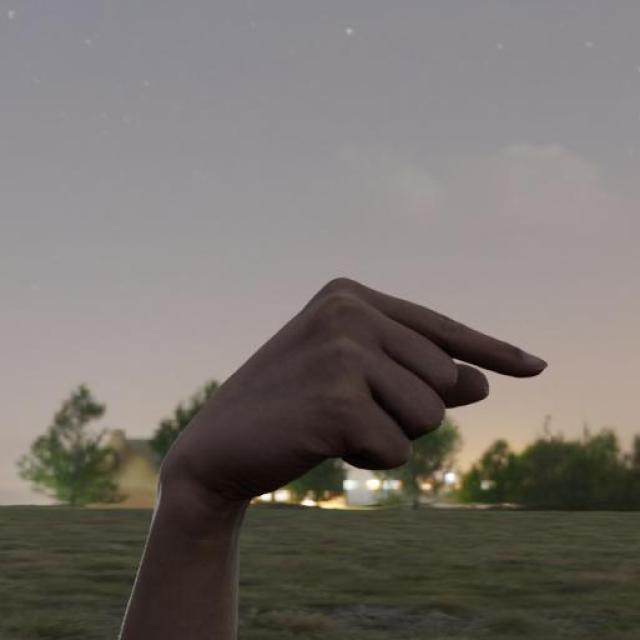G: (149, 276, 550, 498)
